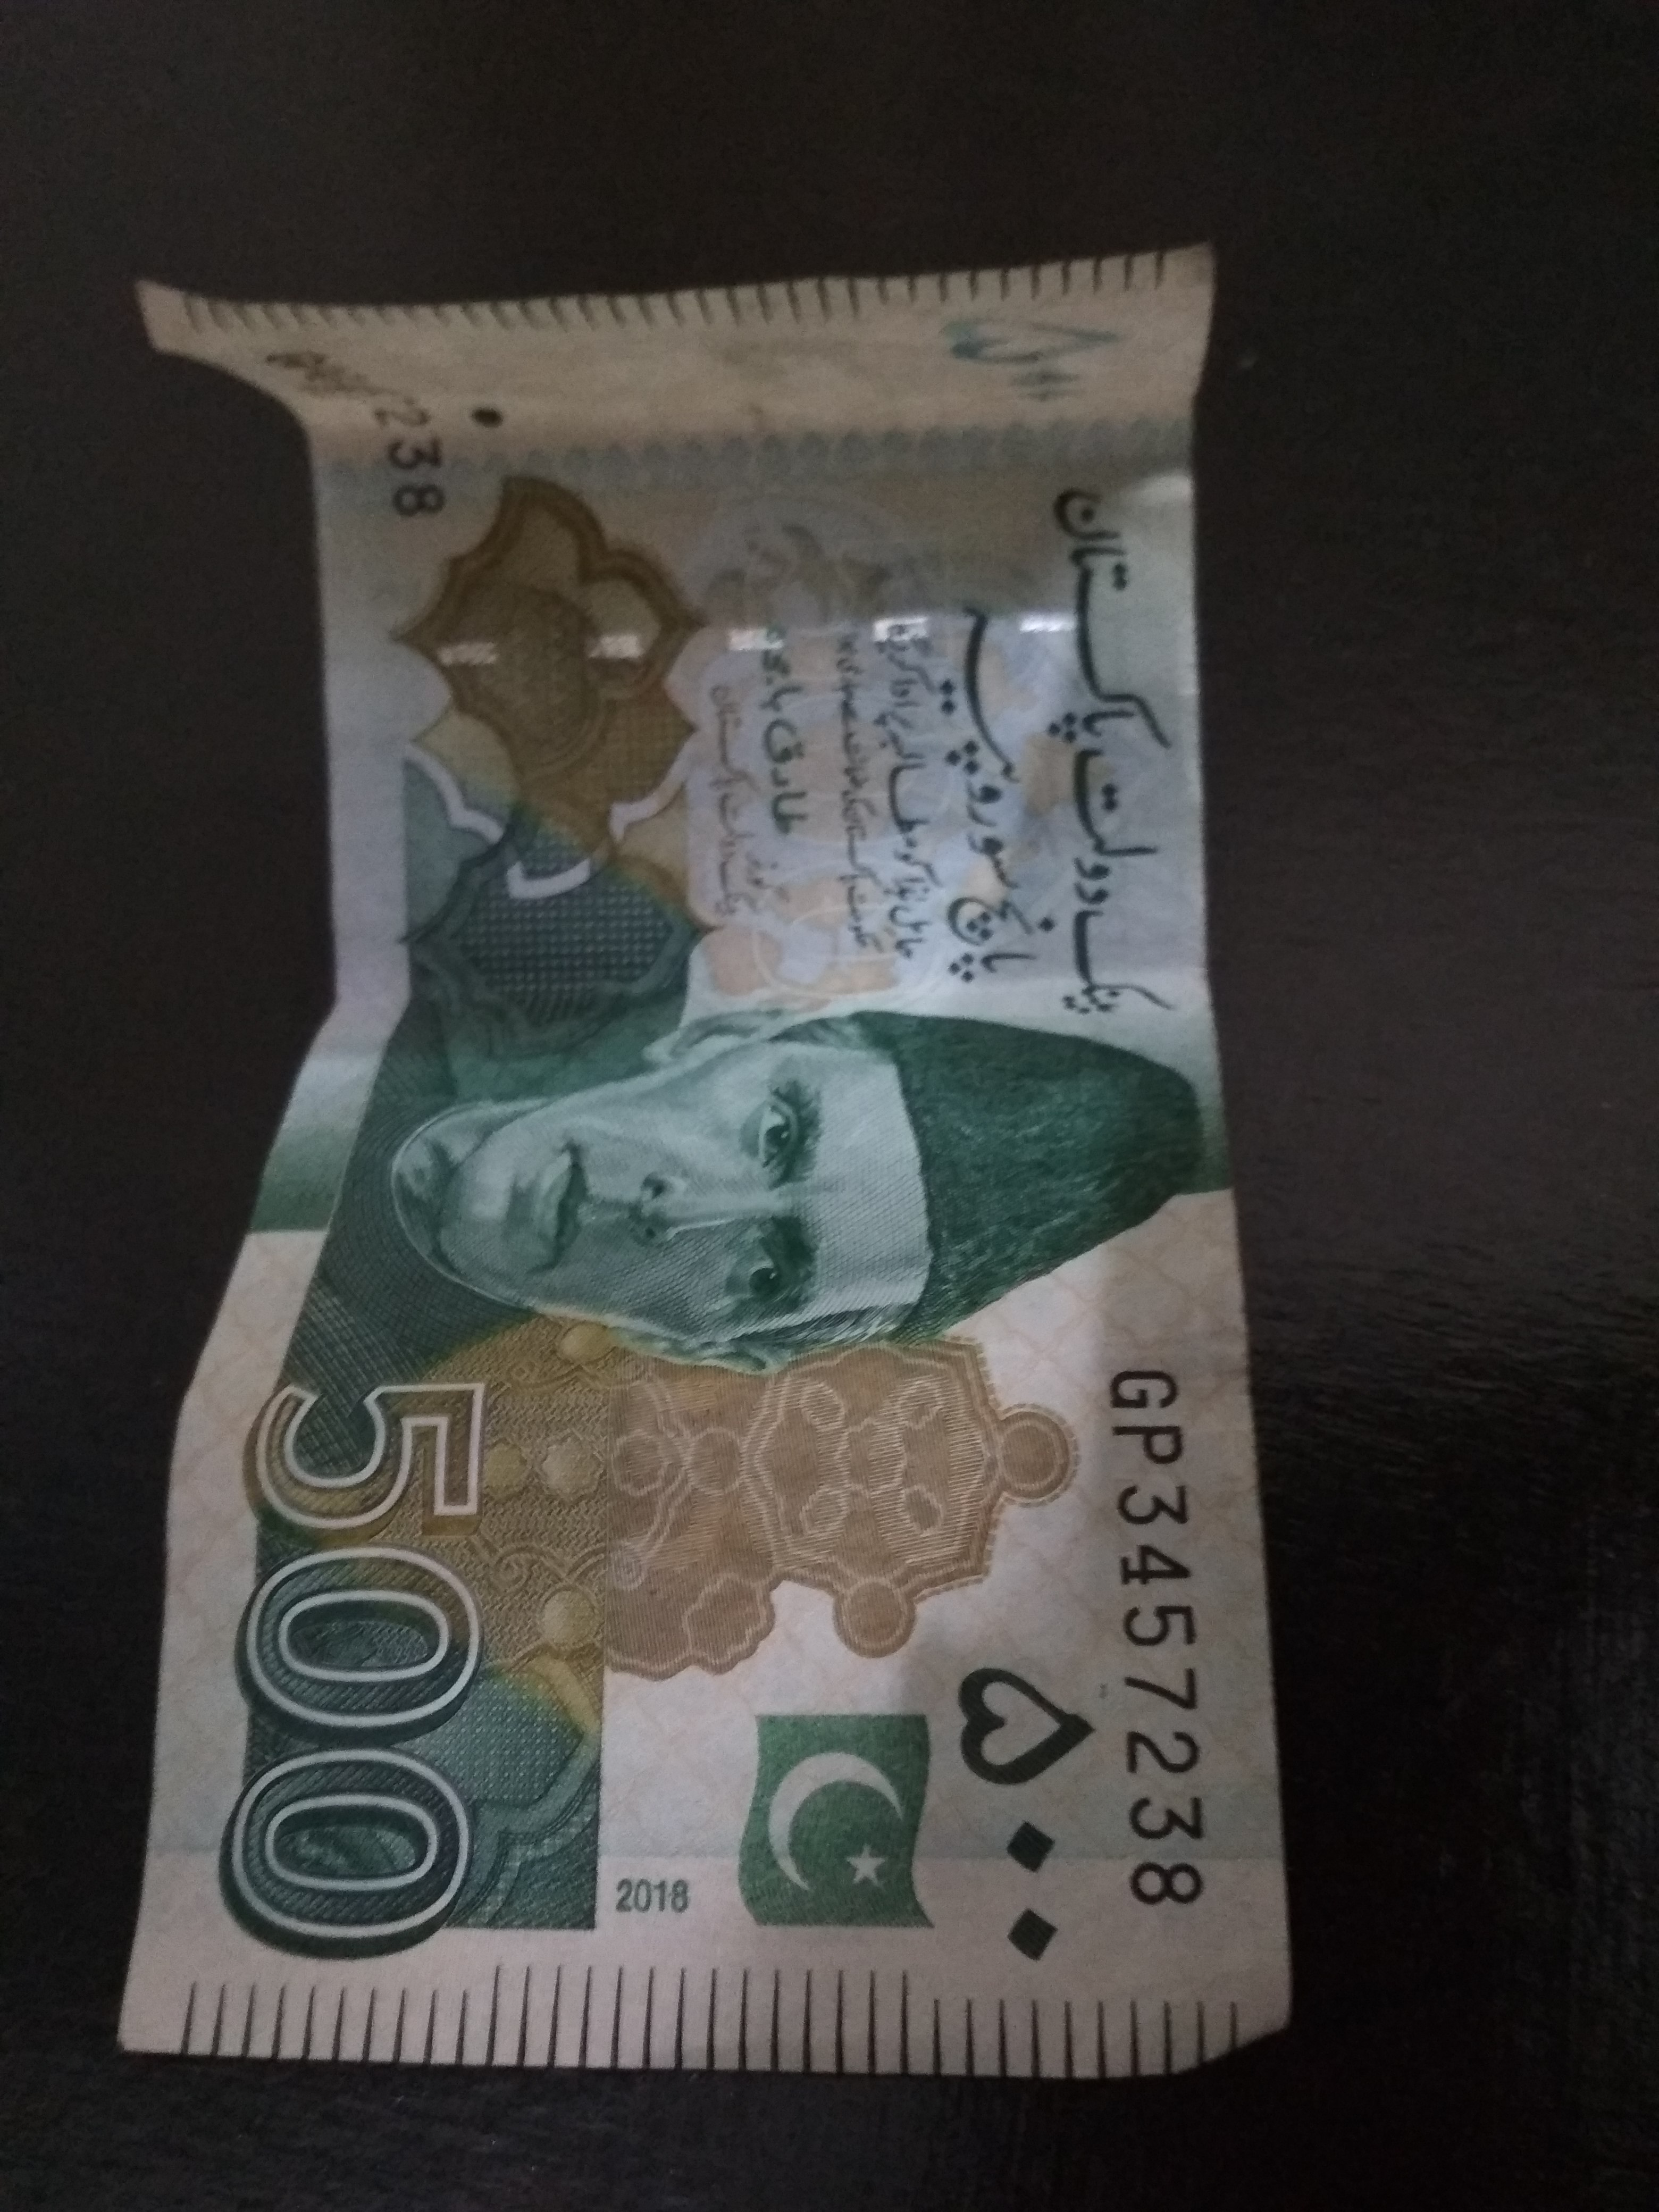500 rupee: (85, 230, 1319, 2118)
